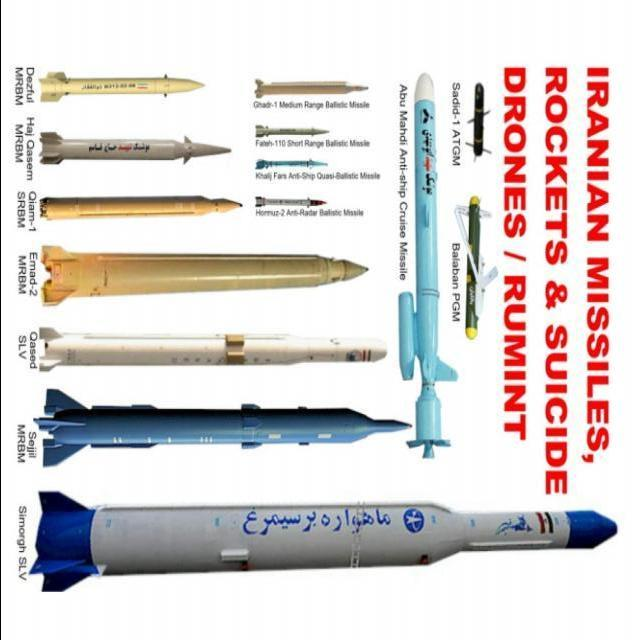Missile: (27, 487, 627, 600), (35, 387, 416, 478), (396, 63, 460, 483), (33, 242, 375, 312), (33, 186, 251, 231), (33, 125, 234, 173), (33, 61, 208, 114)
